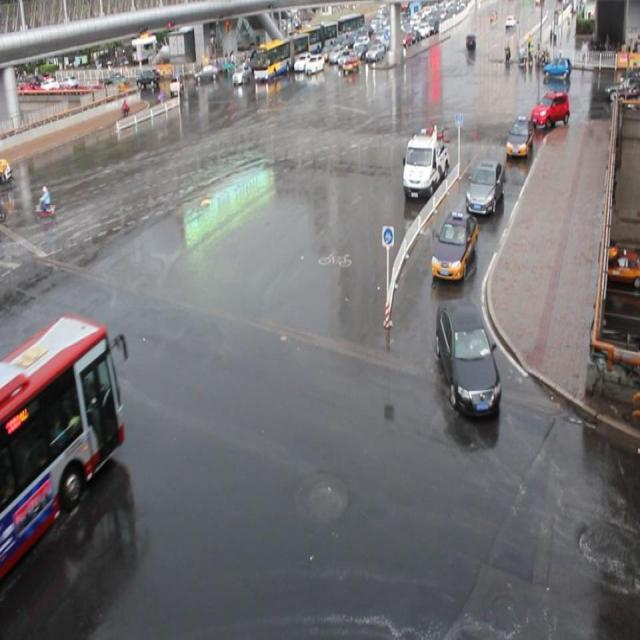bus: (401, 126, 448, 201)
car: (435, 299, 500, 417), (430, 208, 477, 280), (464, 158, 504, 216), (528, 91, 568, 127), (503, 115, 534, 158), (232, 63, 252, 86)
van: (0, 311, 126, 580)
